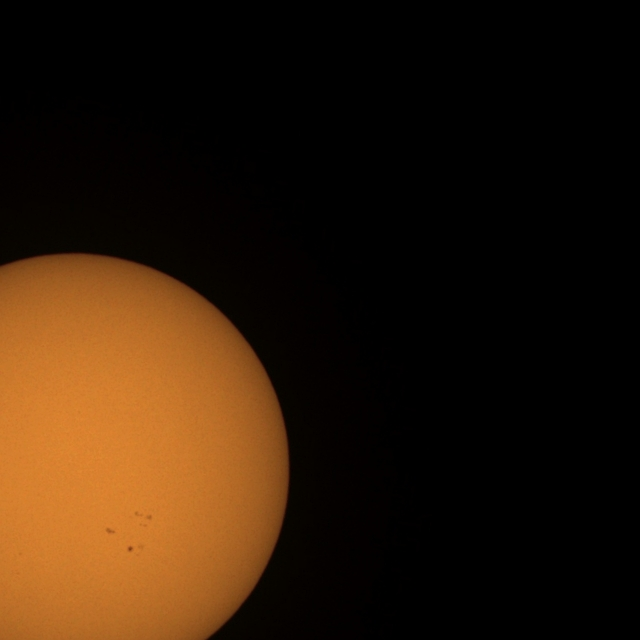sunspot: (133, 510, 153, 528), (127, 544, 145, 556), (104, 526, 116, 536)
